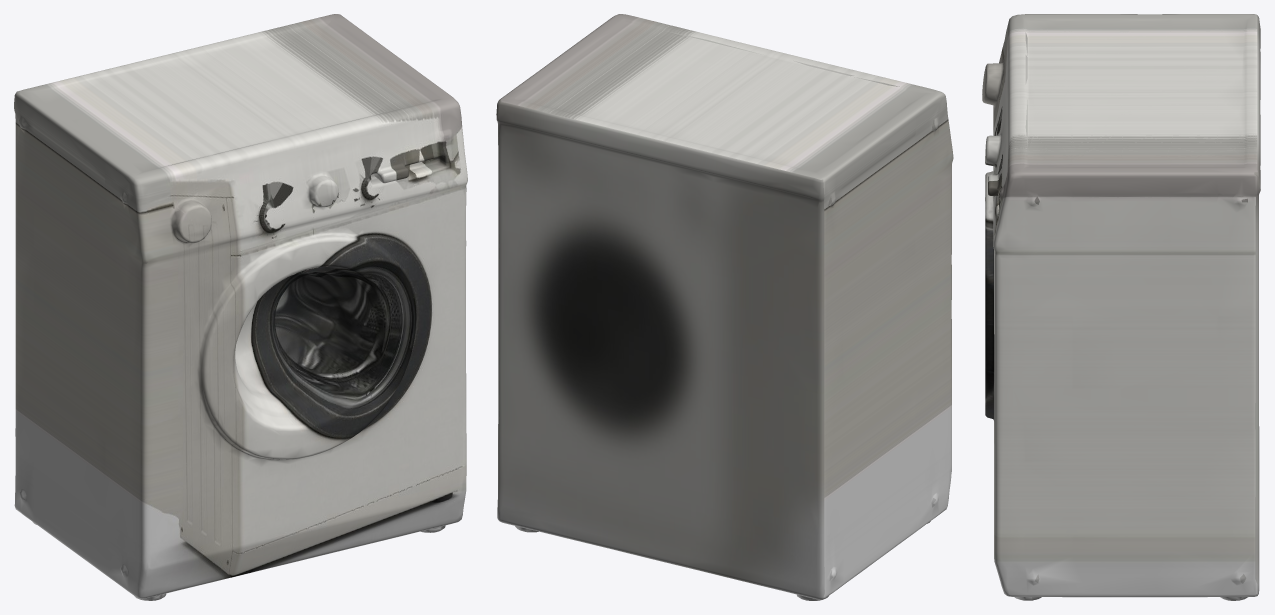
The model's file is washing_machine.glb.
The picture shows the model from 3 angles, left to right: view 1: azimuth 30°, elevation 25°; view 2: azimuth 150°, elevation 25°; view 3: azimuth 270°, elevation 25°; orthographic projection.
Parts seen in each view (by area): view 1: washing_machine; view 2: washing_machine; view 3: washing_machine.
Boxes of the visible parts, x1,y1,x2,y2 form: washing_machine: [14, 14, 467, 600]; washing_machine: [496, 14, 953, 600]; washing_machine: [982, 14, 1260, 600].
Bounding box in the file's own units: 20 × 24.75 × 14.46.
1 material, 1 textured.
